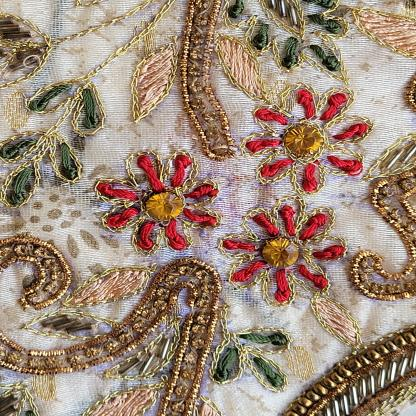spot: (332, 188, 368, 214), (210, 170, 245, 195), (195, 230, 220, 259), (235, 287, 263, 308)
